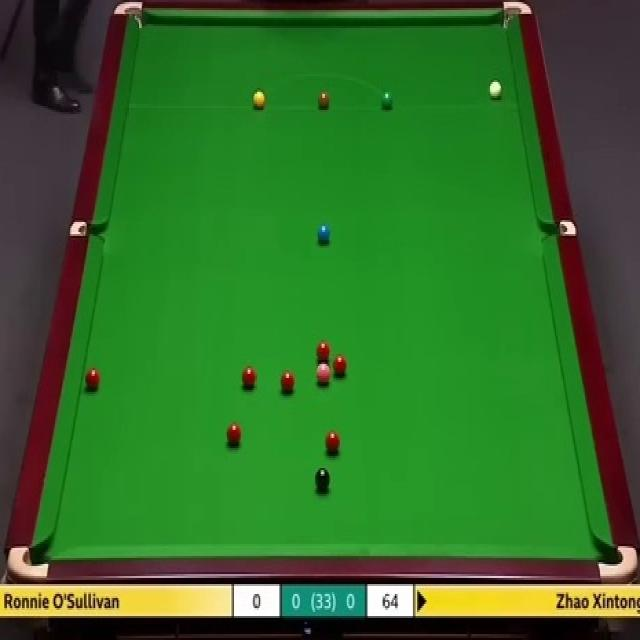black-ball: (314, 468, 331, 493)
blue-ball: (318, 226, 332, 247)
brown-ball: (317, 90, 330, 110)
green-ball: (380, 91, 394, 112)
pink-ball: (315, 361, 331, 386)
red-ball: (280, 373, 297, 397), (326, 429, 342, 453), (241, 366, 256, 391), (85, 366, 101, 388), (334, 356, 350, 378), (227, 424, 241, 447), (318, 340, 331, 362)
white-ball: (488, 79, 503, 104)
yellow-ball: (252, 89, 266, 109)
